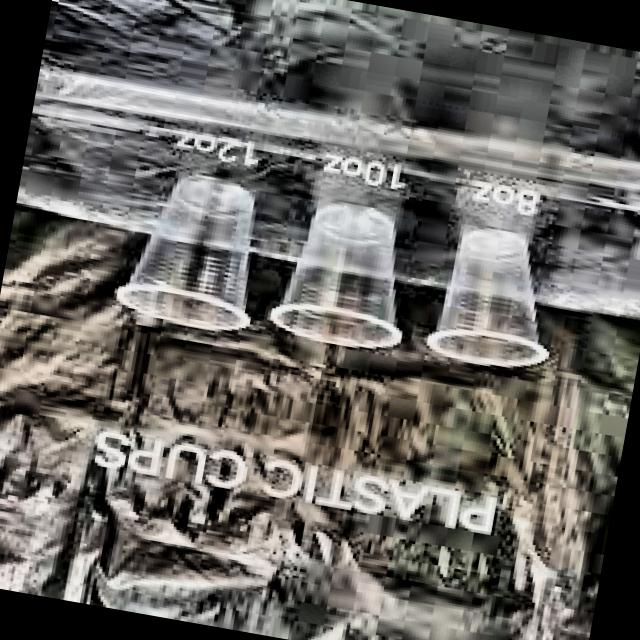plastic cup: (262, 188, 428, 364), (107, 158, 270, 334), (425, 218, 564, 380)
